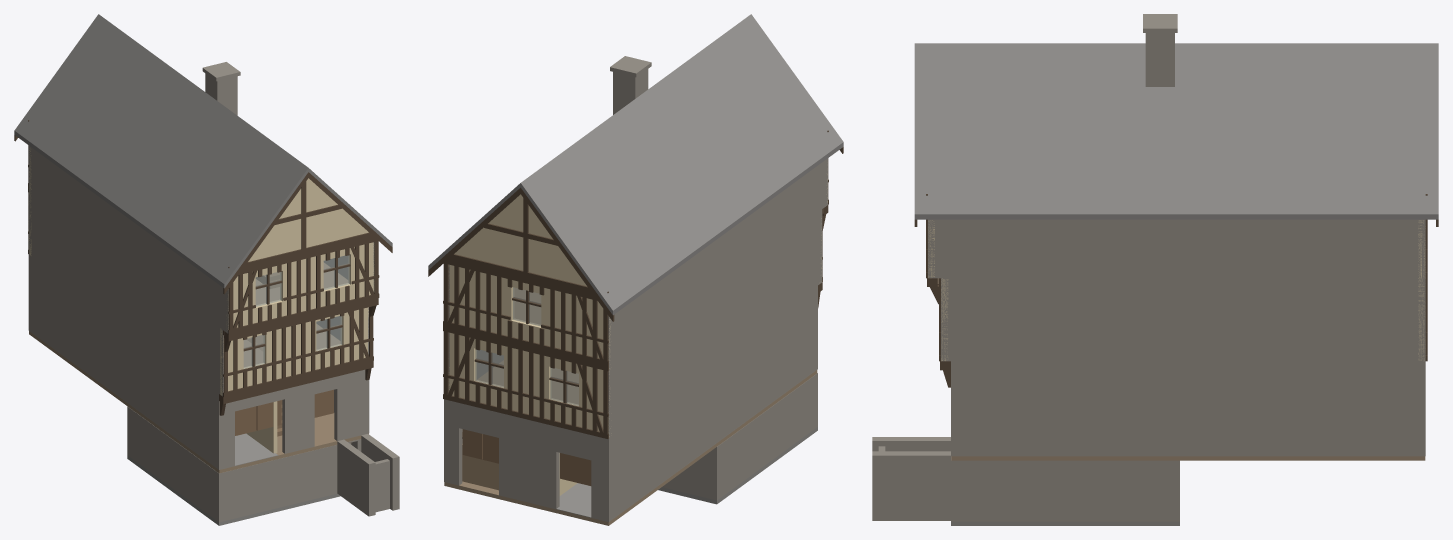
Rendered from inn-a-v2.glb.
3 renders of one model, left to right at view 1: azimuth 30°, elevation 25°; view 2: azimuth 150°, elevation 25°; view 3: azimuth 270°, elevation 25°, orthographic. The views are drawn at different scales.
Parts seen in each view (by area): view 1: stone, roof, timber, render, floor, glass, flags, cobbles, inn-a-v2-door-02 leaf, inn-a-v2-door-01 leaf, inn-a-v2-door-03 leaf; view 2: stone, roof, timber, render, floor, glass, plank, cobbles, inn-a-v2-door-04 leaf, flags, inn-a-v2-door-05 leaf; view 3: stone, roof, floor, timber, flags, render.
Boxes of the visible parts, x1,y1,x2,y2 form: stone: [28, 62, 399, 522]; roof: [14, 14, 392, 288]; timber: [14, 120, 392, 415]; render: [28, 148, 374, 453]; floor: [29, 263, 368, 473]; glass: [243, 255, 349, 368]; flags: [127, 455, 340, 525]; cobbles: [33, 333, 278, 468]; inn-a-v2-door-02 leaf: [256, 400, 281, 430]; inn-a-v2-door-01 leaf: [235, 406, 256, 435]; inn-a-v2-door-03 leaf: [314, 389, 333, 417]; stone: [444, 56, 827, 521]; roof: [428, 14, 843, 315]; timber: [428, 130, 843, 438]; render: [448, 174, 827, 495]; floor: [444, 209, 823, 525]; glass: [475, 287, 578, 405]; plank: [462, 444, 498, 490]; cobbles: [544, 372, 813, 521]; inn-a-v2-door-04 leaf: [560, 453, 591, 485]; flags: [658, 427, 817, 504]; inn-a-v2-door-05 leaf: [462, 429, 482, 459]; stone: [872, 14, 1425, 521]; roof: [914, 43, 1438, 219]; floor: [937, 278, 1425, 460]; timber: [914, 194, 1438, 387]; flags: [951, 521, 1179, 525]; render: [928, 220, 1425, 360].
Size of the model in its own units: 7.4 by 15.7 by 17.3.
